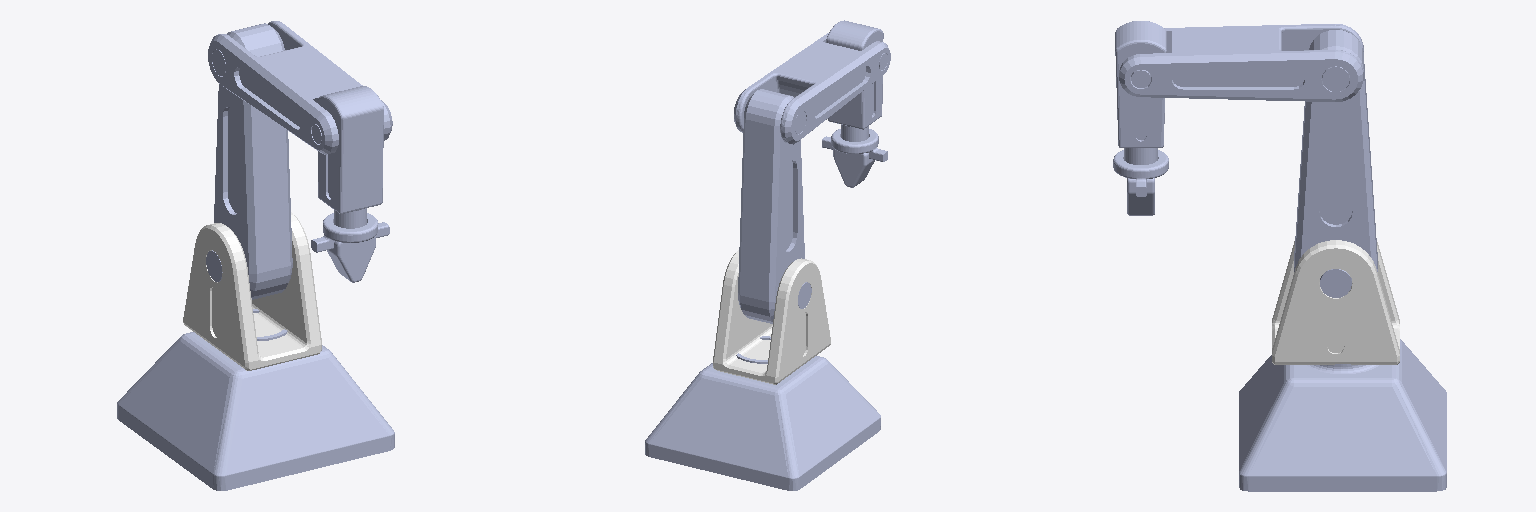
URDF robot description (robot_arm_urdf):
<?xml version="1.0" encoding="utf-8"?>
<!-- This URDF was automatically created by SolidWorks to URDF Exporter! Originally created by Stephen Brawner (brawner@gmail.com) 
     Commit Version: 1.6.0-4-g7f85cfe  Build Version: 1.6.7995.38578
     For more information, please see http://wiki.ros.org/sw_urdf_exporter -->
<robot
  name="robot_arm_urdf">
  <link
    name="base_link">
    <inertial>
      <origin
        xyz="0 0 0.073876"
        rpy="0 0 0" />
      <mass
        value="17.147" />
      <inertia
        ixx="0.192"
        ixy="-4.9423E-10"
        ixz="1.2752E-17"
        iyy="0.192"
        iyz="2.6417E-18"
        izz="0.29544" />
    </inertial>
    <visual>
      <origin
        xyz="0 0 0"
        rpy="0 0 0" />
      <geometry>
        <mesh
          filename="package://robot_arm_urdf/meshes/base_link.STL" />
      </geometry>
      <material
        name="">
        <color
          rgba="0.79216 0.81961 0.93333 1" />
      </material>
    </visual>
    <collision>
      <origin
        xyz="0 0 0"
        rpy="0 0 0" />
      <geometry>
        <mesh
          filename="package://robot_arm_urdf/meshes/base_link.STL" />
      </geometry>
    </collision>
  </link>
  <link
    name="link_1">
    <inertial>
      <origin
        xyz="-2.5757E-14 0.11047 -7.8988E-11"
        rpy="0 0 0" />
      <mass
        value="3.0905" />
      <inertia
        ixx="0.026302"
        ixy="-2.5267E-15"
        ixz="-1.4177E-12"
        iyy="0.019632"
        iyz="-7.4535E-12"
        izz="0.025388" />
    </inertial>
    <visual>
      <origin
        xyz="0 0 0"
        rpy="0 0 0" />
      <geometry>
        <mesh
          filename="package://robot_arm_urdf/meshes/link_1.STL" />
      </geometry>
      <material
        name="">
        <color
          rgba="1 1 1 1" />
      </material>
    </visual>
    <collision>
      <origin
        xyz="0 0 0"
        rpy="0 0 0" />
      <geometry>
        <mesh
          filename="package://robot_arm_urdf/meshes/link_1.STL" />
      </geometry>
    </collision>
  </link>
  <joint
    name="joint_1"
    type="revolute">
    <origin
      xyz="0 -1.2 0"
      rpy="1.5708 0 1.5708" />
    <parent
      link="base_link" />
    <child
      link="link_1" />
    <axis
      xyz="0 1 0" />
    <limit
      lower="0"
      upper="3.142"
      effort="300"
      velocity="2" />
  </joint>
  <link
    name="link_2">
    <inertial>
      <origin
        xyz="-1.1102E-16 0.16752 -2.498E-16"
        rpy="0 0 0" />
      <mass
        value="5.5867" />
      <inertia
        ixx="0.12632"
        ixy="8.4877E-17"
        ixz="7.8685E-19"
        iyy="0.011401"
        iyz="1.4432E-16"
        izz="0.12911" />
    </inertial>
    <visual>
      <origin
        xyz="0 0 0"
        rpy="0 0 0" />
      <geometry>
        <mesh
          filename="package://robot_arm_urdf/meshes/link_2.STL" />
      </geometry>
      <material
        name="">
        <color
          rgba="0.79216 0.81961 0.93333 1" />
      </material>
    </visual>
    <collision>
      <origin
        xyz="0 0 0"
        rpy="0 0 0" />
      <geometry>
        <mesh
          filename="package://robot_arm_urdf/meshes/link_2.STL" />
      </geometry>
    </collision>
  </link>
  <joint
    name="joint_2"
    type="revolute">
    <origin
      xyz="0 0.205 0"
      rpy="0 0 0" />
    <parent
      link="link_1" />
    <child
      link="link_2" />
    <axis
      xyz="0 0 1" />
    <limit
      lower="-1.57"
      upper="1.095"
      effort="200"
      velocity="2" />
  </joint>
  <link
    name="link_3">
    <inertial>
      <origin
        xyz="-0.17893 0 -1.249E-16"
        rpy="0 0 0" />
      <mass
        value="2.8262" />
      <inertia
        ixx="0.0074041"
        ixy="-1.7927E-17"
        ixz="4.2672E-17"
        iyy="0.028552"
        iyz="-3.4736E-10"
        izz="0.025128" />
    </inertial>
    <visual>
      <origin
        xyz="0 0 0"
        rpy="0 0 0" />
      <geometry>
        <mesh
          filename="package://robot_arm_urdf/meshes/link_3.STL" />
      </geometry>
      <material
        name="">
        <color
          rgba="0.79216 0.81961 0.93333 1" />
      </material>
    </visual>
    <collision>
      <origin
        xyz="0 0 0"
        rpy="0 0 0" />
      <geometry>
        <mesh
          filename="package://robot_arm_urdf/meshes/link_3.STL" />
      </geometry>
    </collision>
  </link>
  <joint
    name="joint_3"
    type="revolute">
    <origin
      xyz="0 0.4 0"
      rpy="0 0 0" />
    <parent
      link="link_2" />
    <child
      link="link_3" />
    <axis
      xyz="0 0 1" />
    <limit
      lower="-0.594"
      upper="0.594"
      effort="200"
      velocity="2" />
  </joint>
  <link
    name="link_4">
    <inertial>
      <origin
        xyz="-0.051672 -2.2204E-16 -1.1102E-16"
        rpy="0 0 0" />
      <mass
        value="1.8097" />
      <inertia
        ixx="0.0023112"
        ixy="-9.6437E-18"
        ixz="-9.9829E-19"
        iyy="0.0096102"
        iyz="1.3194E-19"
        izz="0.0093908" />
    </inertial>
    <visual>
      <origin
        xyz="0 0 0"
        rpy="0 0 0" />
      <geometry>
        <mesh
          filename="package://robot_arm_urdf/meshes/link_4.STL" />
      </geometry>
      <material
        name="">
        <color
          rgba="0.79216 0.81961 0.93333 1" />
      </material>
    </visual>
    <collision>
      <origin
        xyz="0 0 0"
        rpy="0 0 0" />
      <geometry>
        <mesh
          filename="package://robot_arm_urdf/meshes/link_4.STL" />
      </geometry>
    </collision>
  </link>
  <joint
    name="joint_4"
    type="fixed">
    <origin
      xyz="-0.35 0 0"
      rpy="0 0 1.5708" />
    <parent
      link="link_3" />
    <child
      link="link_4" />
  </joint>
  <link
    name="link_5">
    <inertial>
      <origin
        xyz="-0.018544 0 -2.7756E-17"
        rpy="0 0 0" />
      <mass
        value="0.19053" />
      <inertia
        ixx="0.00030197"
        ixy="1.6611E-20"
        ixz="3.6309E-21"
        iyy="0.00022817"
        iyz="-1.9664E-11"
        izz="0.00011843" />
    </inertial>
    <visual>
      <origin
        xyz="0 0 0"
        rpy="0 0 0" />
      <geometry>
        <mesh
          filename="package://robot_arm_urdf/meshes/link_5.STL" />
      </geometry>
      <material
        name="">
        <color
          rgba="0.79216 0.81961 0.93333 1" />
      </material>
    </visual>
    <collision>
      <origin
        xyz="0 0 0"
        rpy="0 0 0" />
      <geometry>
        <mesh
          filename="package://robot_arm_urdf/meshes/link_5.STL" />
      </geometry>
    </collision>
  </link>
  <joint
    name="joint_5"
    type="fixed">
    <origin
      xyz="-0.188 0 0"
      rpy="0 0 0" />
    <parent
      link="link_4" />
    <child
      link="link_5" />

  </joint>
  <link
    name="link_6">
    <inertial>
      <origin
        xyz="-0.60237 0.4 -0.016013"
        rpy="0 0 0" />
      <mass
        value="0.11653" />
      <inertia
        ixx="3.9246E-05"
        ixy="-9.4878E-20"
        ixz="1.0258E-05"
        iyy="7.1189E-05"
        iyz="-3.4206E-20"
        izz="8.4875E-05" />
    </inertial>
    <visual>
      <origin
        xyz="0 0 0"
        rpy="0 0 0" />
      <geometry>
        <mesh
          filename="package://robot_arm_urdf/meshes/link_6.STL" />
      </geometry>
      <material
        name="">
        <color
          rgba="0.79216 0.81961 0.93333 1" />
      </material>
    </visual>
    <collision>
      <origin
        xyz="0 0 0"
        rpy="0 0 0" />
      <geometry>
        <mesh
          filename="package://robot_arm_urdf/meshes/link_6.STL" />
      </geometry>
    </collision>
  </link>
  <joint
    name="joint_6"
    type="prismatic">
    <origin
      xyz="0.54 -0.4 0"
      rpy="0 0 0" />
    <parent
      link="link_5" />
    <child
      link="link_6" />
    <axis
      xyz="0 0 -1" />
    <limit
      lower="0"
      upper="0.03"
      effort="100"
      velocity="0.15" />
  </joint>
  <link
    name="link_7">
    <inertial>
      <origin
        xyz="-0.60237 0.4 -0.016013"
        rpy="0 0 0" />
      <mass
        value="0.11653" />
      <inertia
        ixx="3.9246E-05"
        ixy="-4.7946E-20"
        ixz="1.0258E-05"
        iyy="7.1189E-05"
        iyz="-3.946E-20"
        izz="8.4875E-05" />
    </inertial>
    <visual>
      <origin
        xyz="0 0 0"
        rpy="0 0 0" />
      <geometry>
        <mesh
          filename="package://robot_arm_urdf/meshes/link_7.STL" />
      </geometry>
      <material
        name="">
        <color
          rgba="0.79216 0.81961 0.93333 1" />
      </material>
    </visual>
    <collision>
      <origin
        xyz="0 0 0"
        rpy="0 0 0" />
      <geometry>
        <mesh
          filename="package://robot_arm_urdf/meshes/link_7.STL" />
      </geometry>
    </collision>
  </link>
  <joint
    name="joint_7"
    type="prismatic">
    <origin
      xyz="0.54 0.4 0"
      rpy="3.1416 0 0" />
    <parent
      link="link_5" />
    <child
      link="link_7" />
    <axis
      xyz="0 0 1" />
    <limit
      lower="-0.03"
      upper="0"
      effort="100"
      velocity="0.15" />
  </joint>
</robot>

--- Render facts (derived) ---
3 views of the same robot in one strip: view 1: azimuth 30°, elevation 25°; view 2: azimuth 150°, elevation 25°; view 3: azimuth 270°, elevation 25° (orthographic).
Robot: robot_arm_urdf — 8 links, 7 joints (3 revolute, 2 prismatic, 2 fixed); root link base_link; default pose: all joints at 0.
Links seen in each view (by area): view 1: base_link, link_2, link_1, link_3, link_4, link_5, link_6; view 2: base_link, link_2, link_1, link_3, link_4, link_5, link_6; view 3: base_link, link_3, link_2, link_1, link_4, link_5, link_7.
Link boxes in pixels (x1,y1,x2,y2): base_link: (117,309,394,490); link_2: (206,23,292,299); link_1: (183,212,321,370); link_3: (208,21,392,154); link_4: (312,86,383,228); link_5: (311,213,389,252); link_6: (327,241,356,282); base_link: (645,336,880,490); link_2: (738,89,811,323); link_1: (713,250,830,384); link_3: (734,33,890,144); link_4: (826,20,887,141); link_5: (822,129,887,161); link_6: (849,153,874,187); base_link: (1239,339,1446,491); link_3: (1119,24,1363,101); link_2: (1294,30,1377,297); link_1: (1272,240,1399,364); link_4: (1115,21,1166,164); link_5: (1113,150,1168,196); link_7: (1127,178,1154,215).
Size in the robot's own frame: 0.3732 by 0.599 by 0.8209 metres.
8 mesh visuals loaded from 8 distinct referenced files (8 binary STL).
